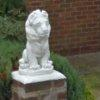Statue: (11, 4, 63, 77)
